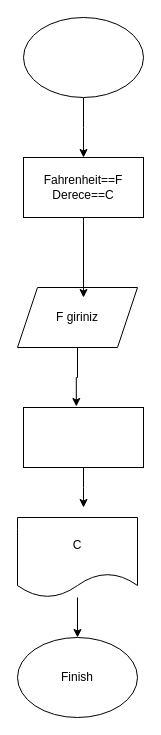
Some shapes in this 161 by 735 pixel diagram are drawn without their labels. Here are the shapes that lost their labels. From the top down, the box of each, then its label:
(22, 16, 144, 98): start
(22, 406, 144, 468): C=(F-32)*5/9
